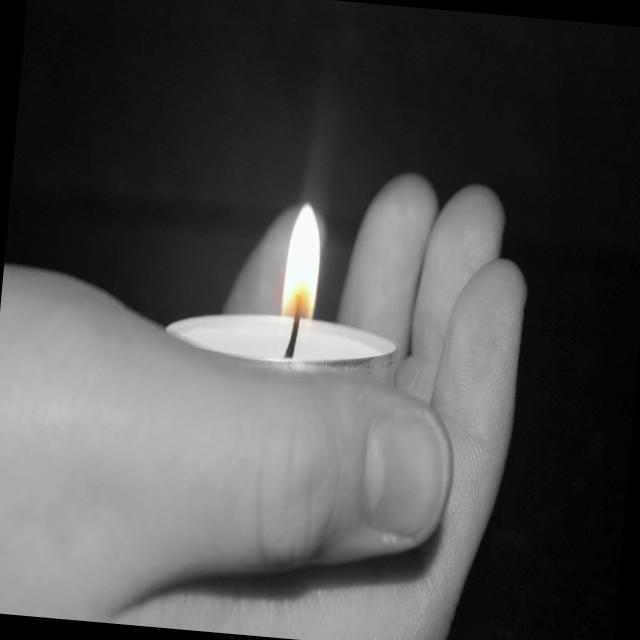Fire_Save: (278, 198, 325, 320)
